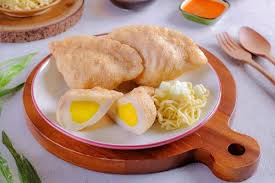Pempek kapal selam: (45, 32, 147, 92), (56, 86, 161, 134), (132, 24, 208, 86)
